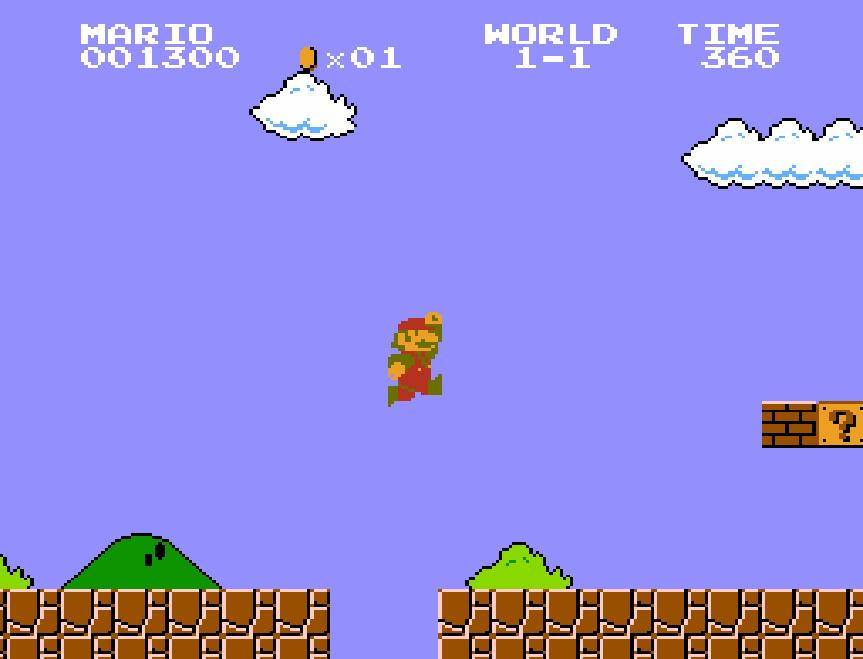big_mario: (386, 310, 444, 408)
